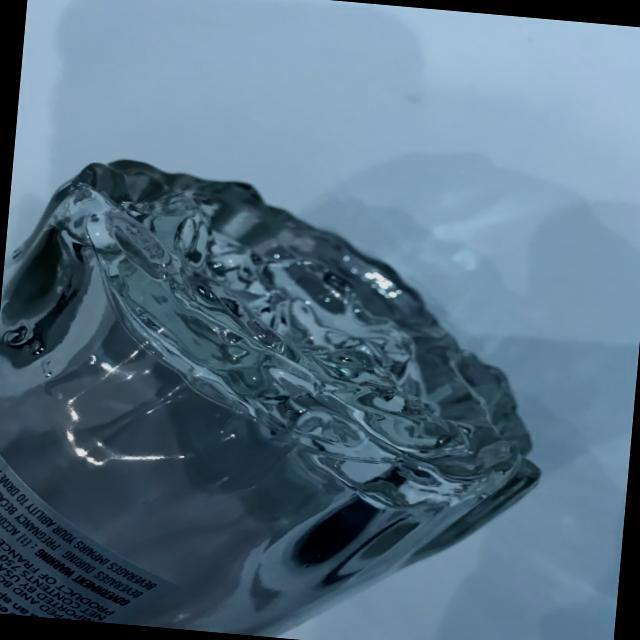glass: (0, 120, 592, 640)
